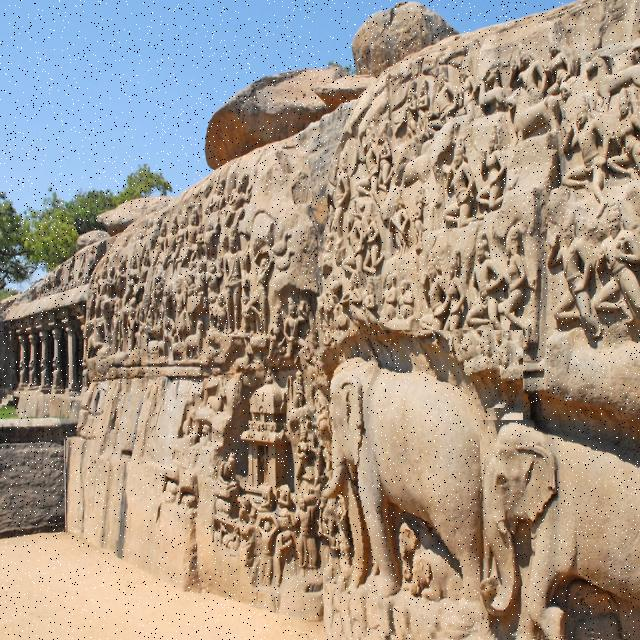elephant: (308, 330, 523, 640), (480, 420, 640, 640)
